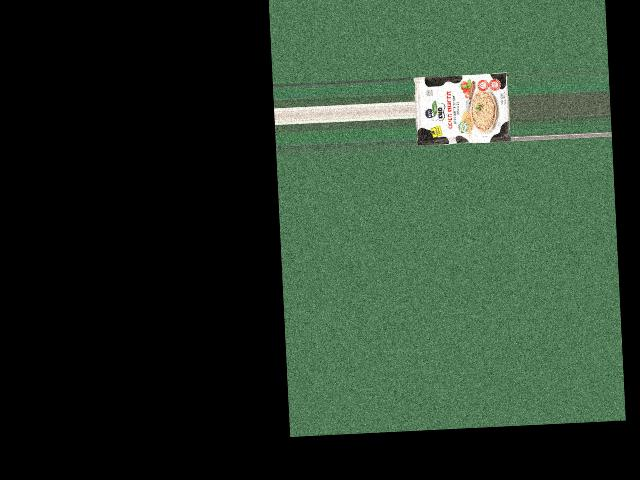cheese: (420, 61, 506, 147)
